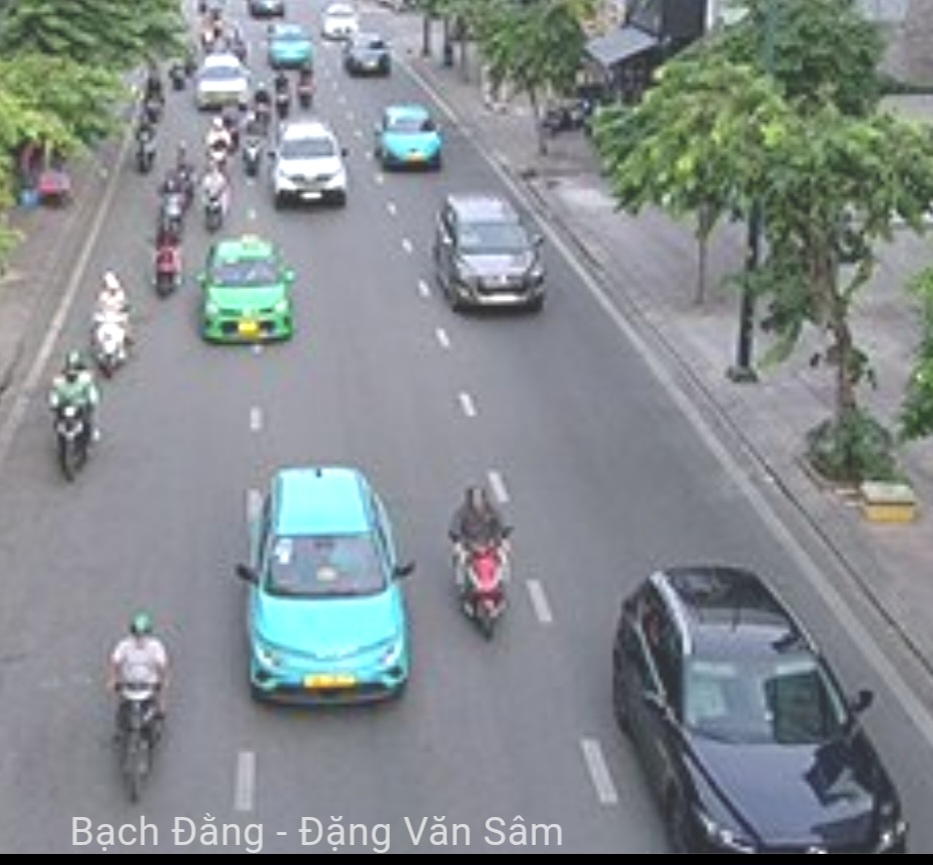car: (613, 564, 902, 851), (245, 461, 411, 705), (434, 195, 547, 309), (200, 235, 295, 340), (271, 121, 347, 211), (373, 101, 443, 175), (192, 56, 250, 109)
